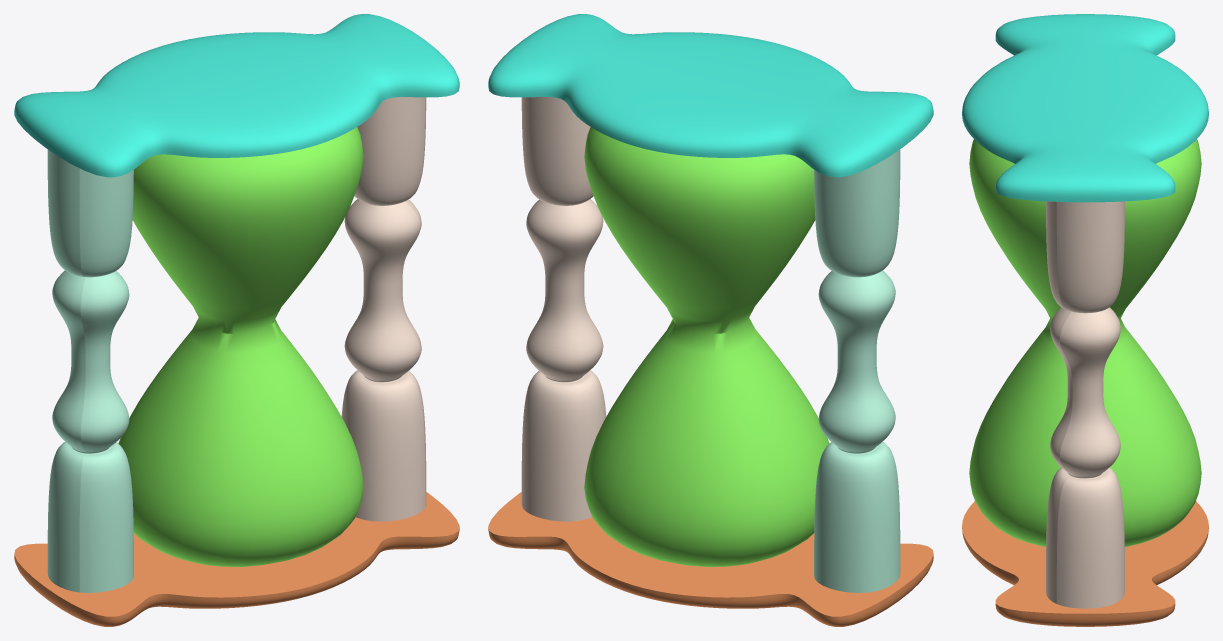
3 renders of one model, left to right at view 1: azimuth 30°, elevation 25°; view 2: azimuth 150°, elevation 25°; view 3: azimuth 270°, elevation 25°, orthographic. The views are drawn at different scales.
Visible parts, largest first — view 1: Object_2, Object_3.014, split_parent_3, split_parent_4, Object_3; view 2: Object_2, Object_3.014, split_parent_3, split_parent_4, Object_3; view 3: Object_2, Object_3.014, split_parent_4, Object_3.
Part boxes in pixels (<box>): Object_2: <box>118,127,363,566</box>; Object_3.014: <box>14,14,459,177</box>; split_parent_3: <box>47,149,133,592</box>; split_parent_4: <box>341,97,426,521</box>; Object_3: <box>14,492,459,626</box>; Object_2: <box>584,127,829,566</box>; Object_3.014: <box>488,14,933,177</box>; split_parent_3: <box>814,149,900,592</box>; split_parent_4: <box>521,97,606,521</box>; Object_3: <box>488,492,933,626</box>; Object_2: <box>969,139,1201,546</box>; Object_3.014: <box>962,14,1208,202</box>; split_parent_4: <box>1046,201,1124,608</box>; Object_3: <box>962,501,1208,626</box>.
Size of the model in its own units: 0.8251 by 1 by 0.4915.
